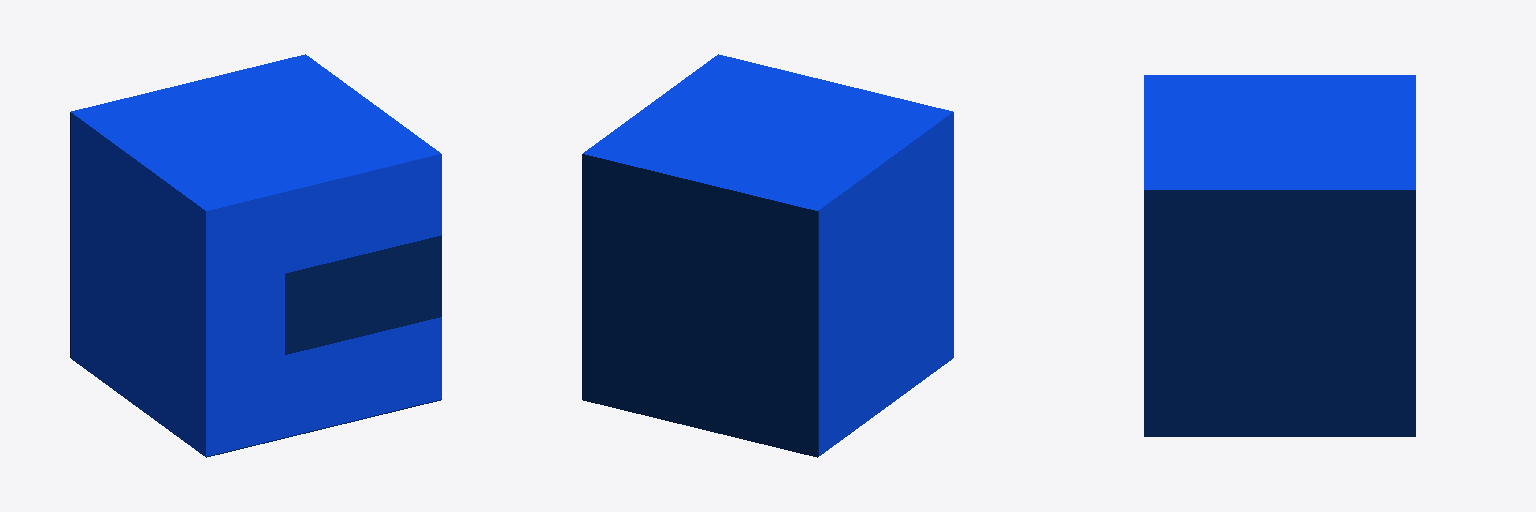
3 renders of one model, left to right at view 1: azimuth 30°, elevation 25°; view 2: azimuth 150°, elevation 25°; view 3: azimuth 270°, elevation 25°, orthographic.
Visible parts, largest first — view 1: Cube; view 2: Cube; view 3: Cube.
Boxes of the visible parts, box(x1,y1,x2,y2) form: Cube: box(70, 54, 441, 457); Cube: box(582, 54, 953, 457); Cube: box(1144, 75, 1415, 436).
Size of the model in its own units: 2 by 2 by 2.
1 materials, 1 textured.